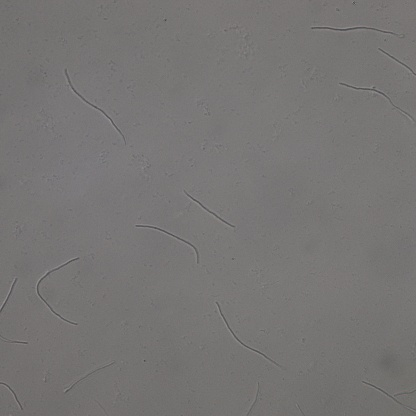Sensitive: (215, 302, 283, 371), (65, 69, 126, 144), (35, 256, 80, 326), (339, 83, 416, 121), (135, 223, 201, 263), (184, 190, 234, 226), (361, 381, 416, 411), (65, 361, 118, 391), (312, 22, 401, 35), (380, 48, 416, 74), (1, 276, 19, 318), (240, 381, 261, 416), (1, 380, 24, 410)
